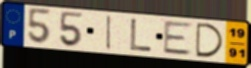5: (26, 6, 53, 47), (58, 10, 84, 48)
D: (195, 22, 226, 59)
E: (162, 21, 195, 57)
I: (105, 14, 113, 51)
L: (129, 18, 154, 54)
